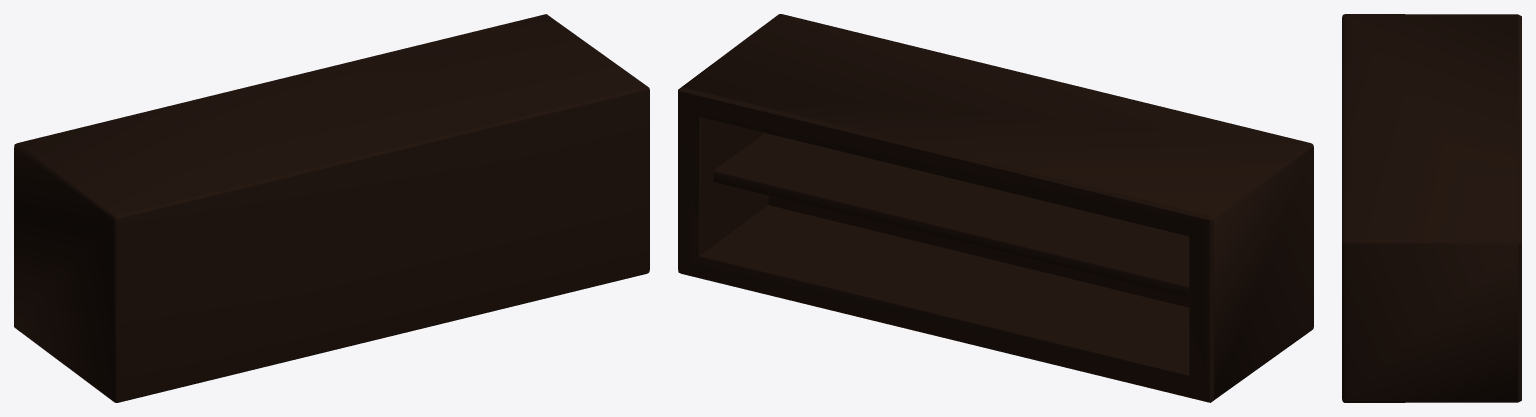
The model's file is Counter001.FBX.
3 views of the same model, side by side, from view 1: azimuth 30°, elevation 25°; view 2: azimuth 150°, elevation 25°; view 3: azimuth 270°, elevation 25° (orthographic). The views are drawn at different scales.
Parts seen in each view (by area): view 1: Counter; view 2: Counter; view 3: Counter.
Boxes of the visible parts, bbox=[...] form: Counter: bbox=[14, 14, 649, 402]; Counter: bbox=[678, 14, 1313, 402]; Counter: bbox=[1342, 14, 1521, 402].
Bounding box in the file's own units: 45 × 15 × 15.
